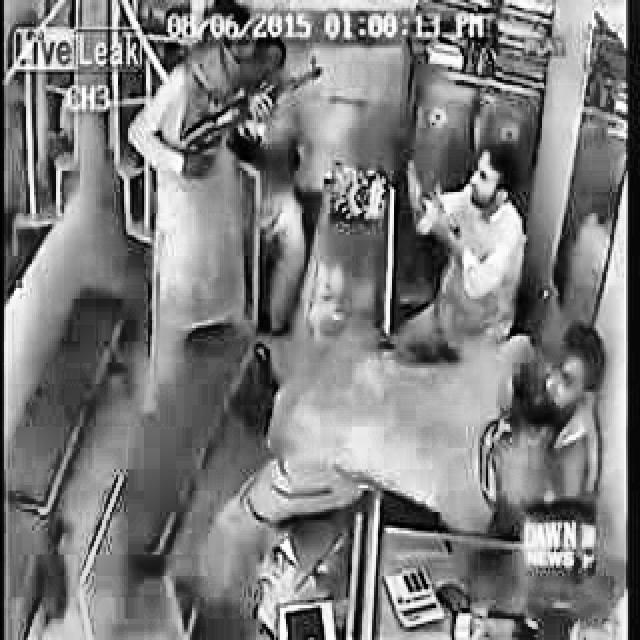robbery: (185, 321, 606, 603), (129, 1, 324, 418), (401, 139, 531, 303)
